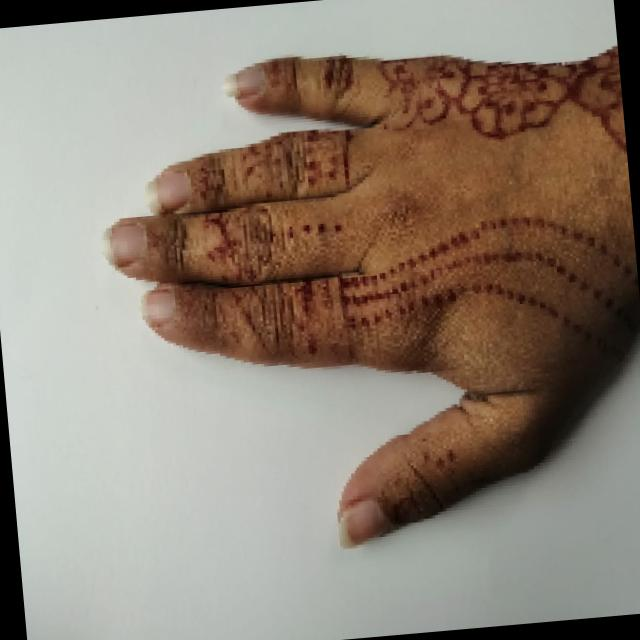Nail: (338, 496, 391, 546), (145, 170, 190, 213), (103, 222, 147, 265), (224, 65, 264, 96), (142, 287, 175, 323)
